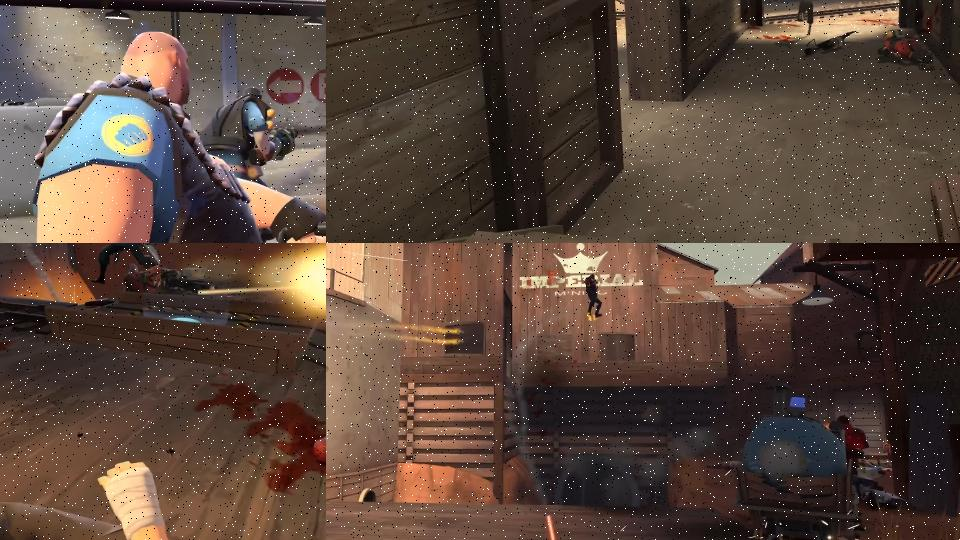Enemy: (34, 30, 326, 243), (0, 456, 260, 540), (199, 87, 298, 188), (90, 243, 160, 284), (877, 30, 935, 71), (852, 475, 910, 510), (837, 415, 871, 474), (125, 263, 179, 294), (796, 0, 819, 35)
